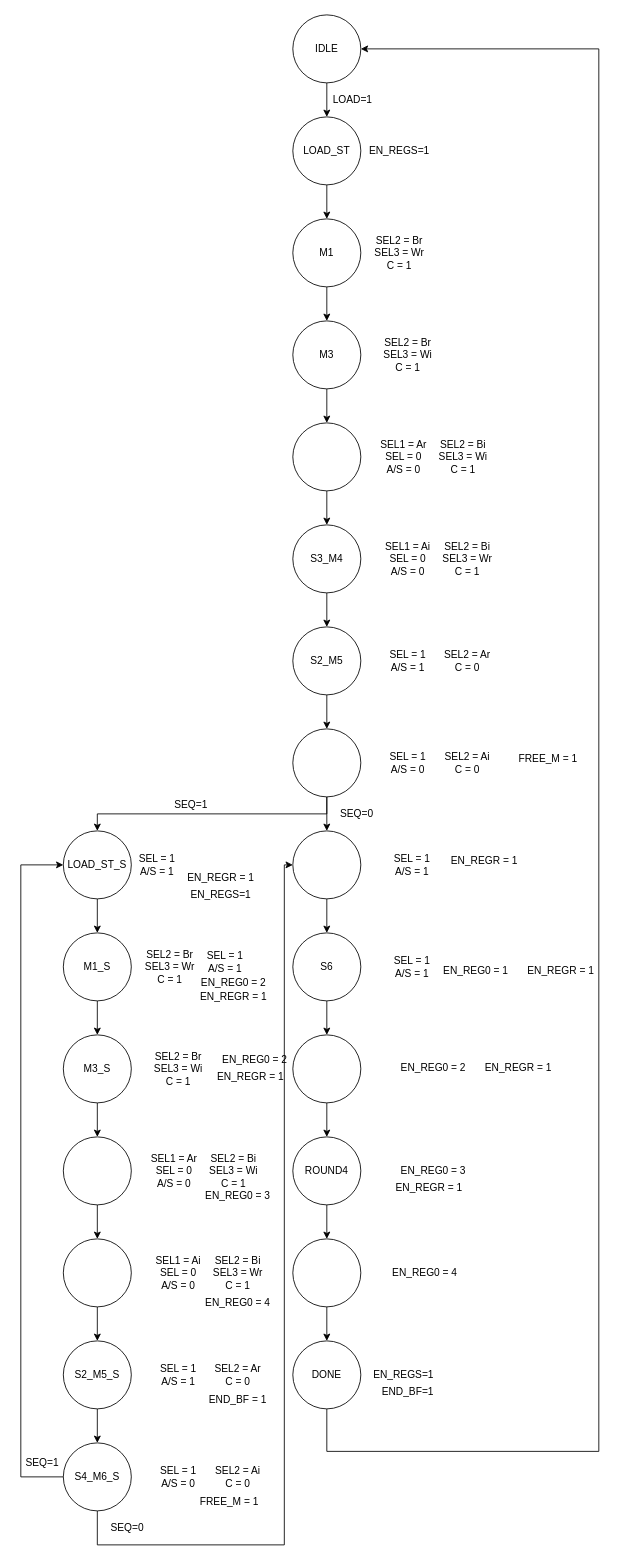
This 621x1567 diagram has some shape labels left out. Each missing label, with the box of its shape:
LAST SAVE: (292, 1238, 361, 1307)
ROUND3: (292, 1034, 361, 1103)
S1_M2: (292, 422, 361, 491)
S1_M2_S: (62, 1136, 131, 1205)
S3_M4_S: (62, 1238, 131, 1307)
S4_M6: (292, 728, 361, 797)
S5: (292, 830, 361, 899)
